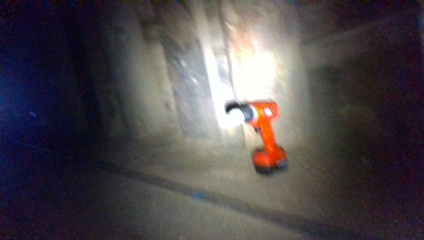drill: (222, 102, 286, 175)
